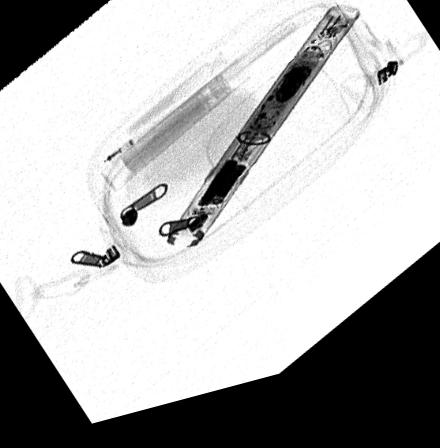Baton: (165, 20, 362, 260)
